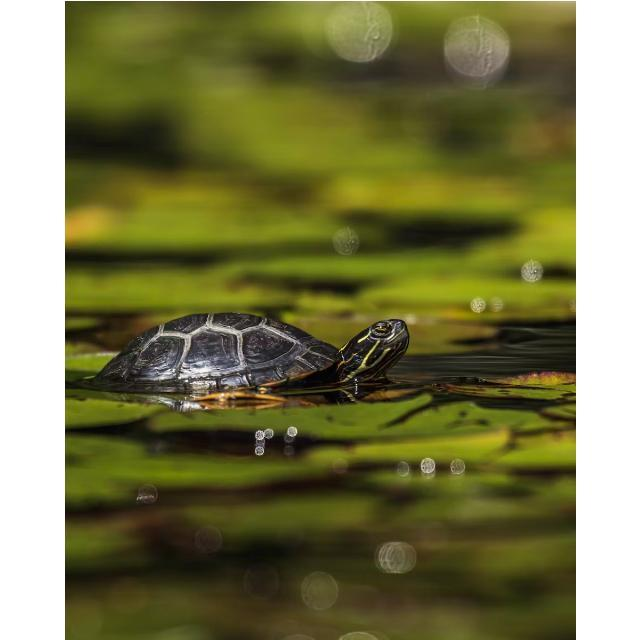turtle: (76, 312, 412, 413)
